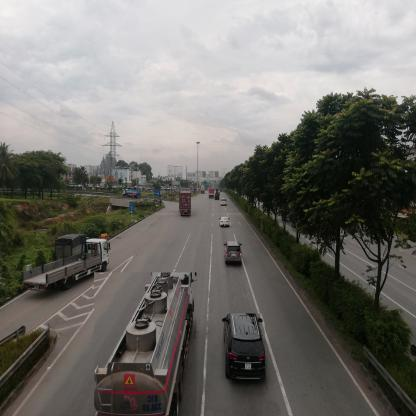car: (223, 315, 266, 381), (225, 243, 243, 270), (220, 216, 231, 227)
container: (180, 192, 192, 217), (221, 199, 228, 208)
truck: (95, 273, 197, 416), (80, 237, 109, 271), (59, 232, 87, 259), (124, 189, 142, 200)
